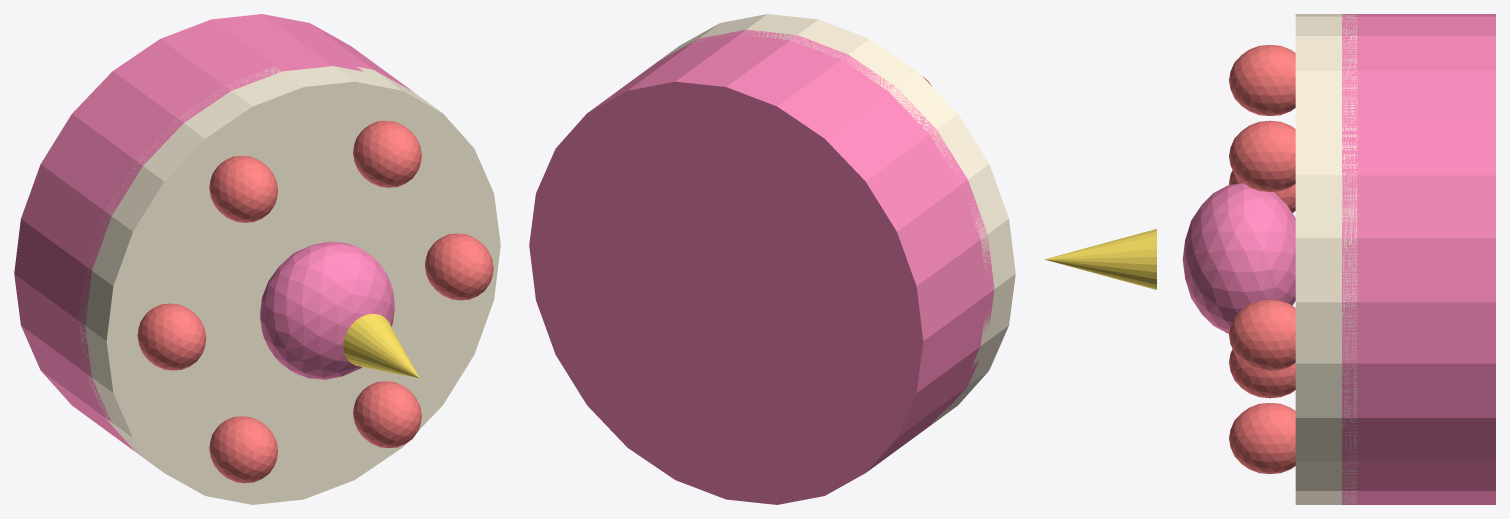
The model's file is 12_recovery_cake.glb.
3 views of the same model, side by side, from view 1: azimuth 30°, elevation 25°; view 2: azimuth 150°, elevation 25°; view 3: azimuth 270°, elevation 25° (orthographic). The views are drawn at different scales.
Visible parts, largest first — view 1: cream, pink, pink_1, red, red_2, red_3, red_1, red_5, red_4, yellow; view 2: pink, cream; view 3: pink, cream, pink_1, red, red_1, red_2, red_5, yellow, red_4.
Boxes of the visible parts, box(x1,y1,x2,y2) form: cream: box(78, 66, 500, 504); pink: box(14, 14, 412, 455); pink_1: box(260, 241, 394, 379); red: box(425, 233, 493, 300); red_2: box(209, 156, 277, 222); red_3: box(137, 303, 206, 370); red_1: box(353, 120, 421, 187); red_5: box(353, 381, 421, 447); red_4: box(209, 416, 277, 483); yellow: box(343, 313, 419, 378); pink: box(529, 29, 994, 504); cream: box(659, 14, 1015, 425); pink: box(1342, 14, 1495, 504); cream: box(1295, 14, 1357, 504); pink_1: box(1182, 183, 1295, 333); red: box(1229, 299, 1295, 370); red_1: box(1229, 120, 1295, 191); red_2: box(1229, 45, 1295, 115); red_5: box(1229, 403, 1295, 473); yellow: box(1044, 229, 1156, 289); red_4: box(1229, 349, 1295, 398).
Bounding box in the file's own units: 0.96 × 0.96 × 0.88.
